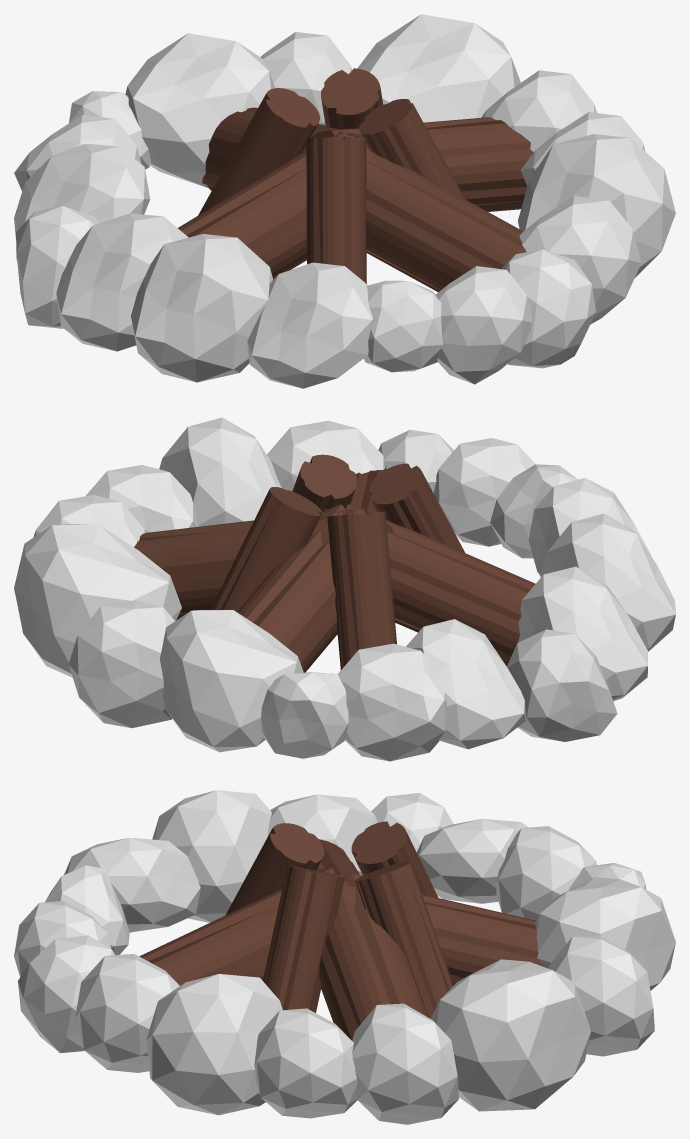
File: FirePlace.fbx
The picture shows the model from 3 angles, top to bottom: view 1: azimuth 30°, elevation 25°; view 2: azimuth 150°, elevation 25°; view 3: azimuth 270°, elevation 25°; orthographic projection. The views are drawn at different scales.
Parts seen in each view (by area): view 1: Icosphere.005, Icosphere, Cylinder.002, Icosphere.007, Icosphere.009, Icosphere.004, Icosphere.014, Icosphere.001, Cylinder.003, Cylinder.008, Icosphere.002, Icosphere.006 (+13 smaller); view 2: Icosphere, Icosphere.009, Cylinder.003, Icosphere.012, Icosphere.015, Icosphere.006, Icosphere.016, Icosphere.014, Icosphere.004, Icosphere.005, Cylinder.004, Cylinder (+13 smaller); view 3: Icosphere.009, Icosphere.004, Icosphere.011, Icosphere.010, Icosphere.005, Icosphere, Cylinder.001, Icosphere.002, Icosphere.012, Cylinder.007, Icosphere.007, Cylinder.002 (+13 smaller).
Part boxes in pixels (bbox=[...]): Icosphere.005: bbox=[131, 234, 273, 382]; Icosphere: bbox=[125, 33, 275, 187]; Cylinder.002: bbox=[338, 134, 526, 292]; Icosphere.007: bbox=[247, 262, 373, 388]; Icosphere.009: bbox=[357, 14, 520, 122]; Icosphere.004: bbox=[518, 134, 675, 277]; Icosphere.014: bbox=[56, 213, 188, 351]; Icosphere.001: bbox=[435, 266, 532, 384]; Cylinder.003: bbox=[178, 131, 374, 279]; Cylinder.008: bbox=[306, 137, 366, 283]; Icosphere.002: bbox=[519, 196, 641, 324]; Icosphere.006: bbox=[14, 143, 150, 237]; Icosphere: bbox=[159, 610, 303, 752]; Icosphere.009: bbox=[14, 524, 181, 677]; Cylinder.003: bbox=[338, 504, 535, 666]; Icosphere.012: bbox=[68, 600, 174, 728]; Icosphere.015: bbox=[338, 643, 446, 761]; Icosphere.006: bbox=[406, 619, 525, 749]; Icosphere.016: bbox=[507, 629, 617, 741]; Icosphere.014: bbox=[518, 566, 647, 701]; Icosphere.004: bbox=[159, 417, 281, 526]; Icosphere.005: bbox=[540, 513, 675, 651]; Cylinder.004: bbox=[327, 511, 396, 669]; Cylinder: bbox=[237, 504, 365, 672]; Icosphere.009: bbox=[430, 959, 590, 1111]; Icosphere.004: bbox=[146, 974, 282, 1115]; Icosphere.011: bbox=[352, 1003, 458, 1124]; Icosphere.010: bbox=[254, 1008, 357, 1118]; Icosphere.005: bbox=[152, 790, 271, 922]; Icosphere: bbox=[534, 877, 675, 990]; Cylinder.001: bbox=[319, 874, 428, 1040]; Icosphere.002: bbox=[75, 954, 179, 1072]; Icosphere.012: bbox=[549, 935, 654, 1056]; Cylinder.007: bbox=[262, 865, 344, 1012]; Icosphere.007: bbox=[64, 837, 200, 932]; Cylinder.002: bbox=[139, 866, 349, 985].
Size of the model in its own units: 1463 by 438 by 1477.
